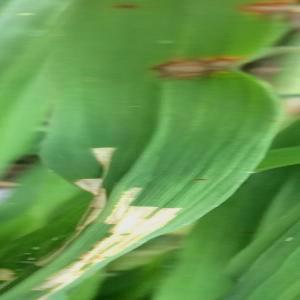1 RiceBlast: (151, 47, 263, 84)
